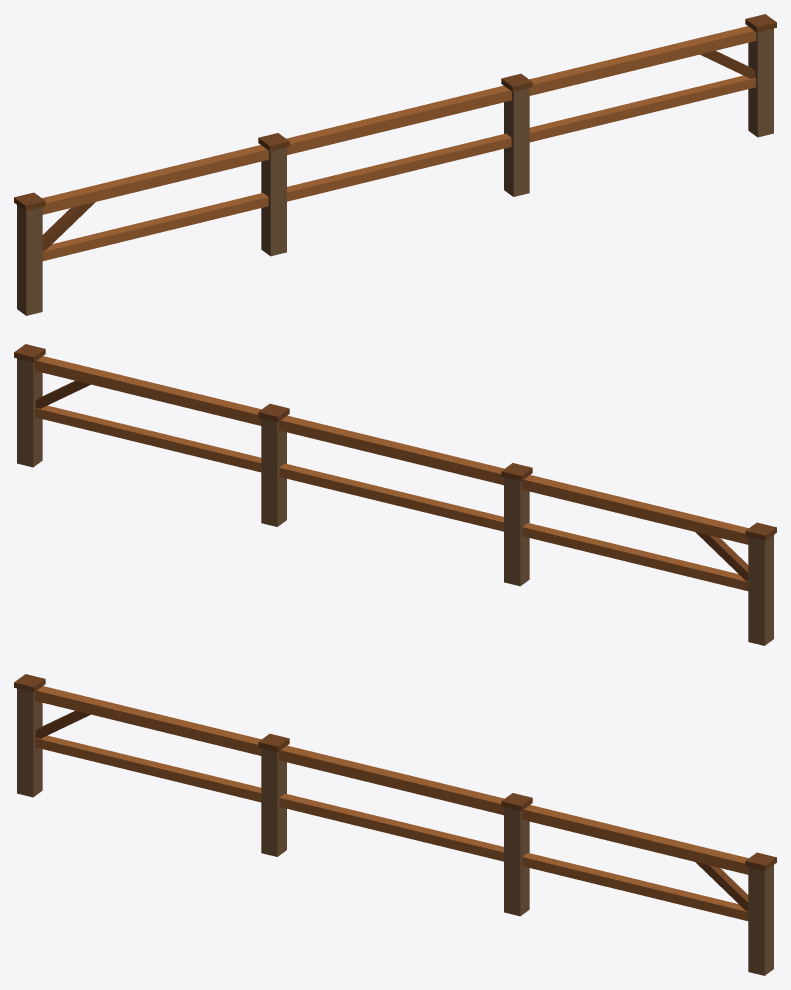
The model's file is rail.glb.
3 views of the same model, one above another, from view 1: azimuth 30°, elevation 25°; view 2: azimuth 150°, elevation 25°; view 3: azimuth 330°, elevation 25° (orthographic).
Parts seen in each view (by area): view 1: rail; view 2: rail; view 3: rail.
Boxes of the visible parts, bbox=[...] form: rail: bbox=[14, 14, 776, 315]; rail: bbox=[14, 344, 776, 645]; rail: bbox=[14, 674, 776, 975].
Bounding box in the file's own units: 6 × 0.85 × 0.16.
